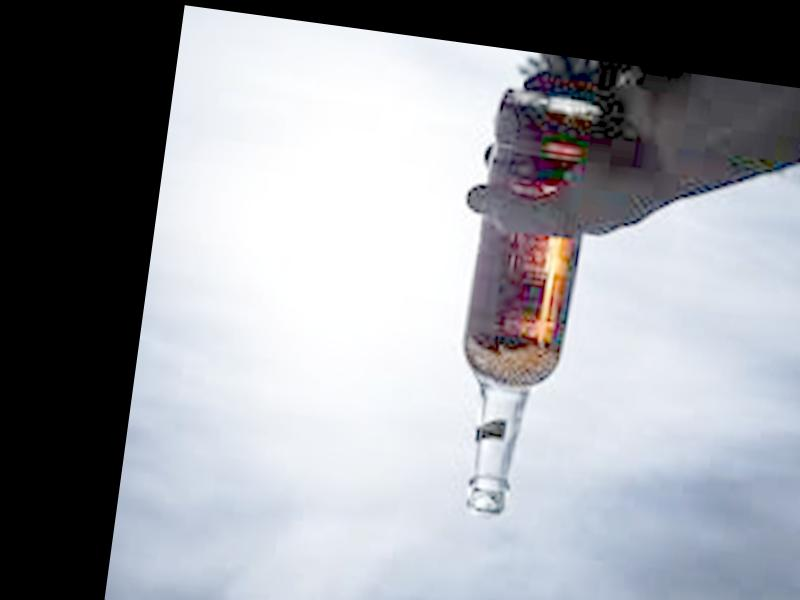Beer: (445, 93, 600, 522)
